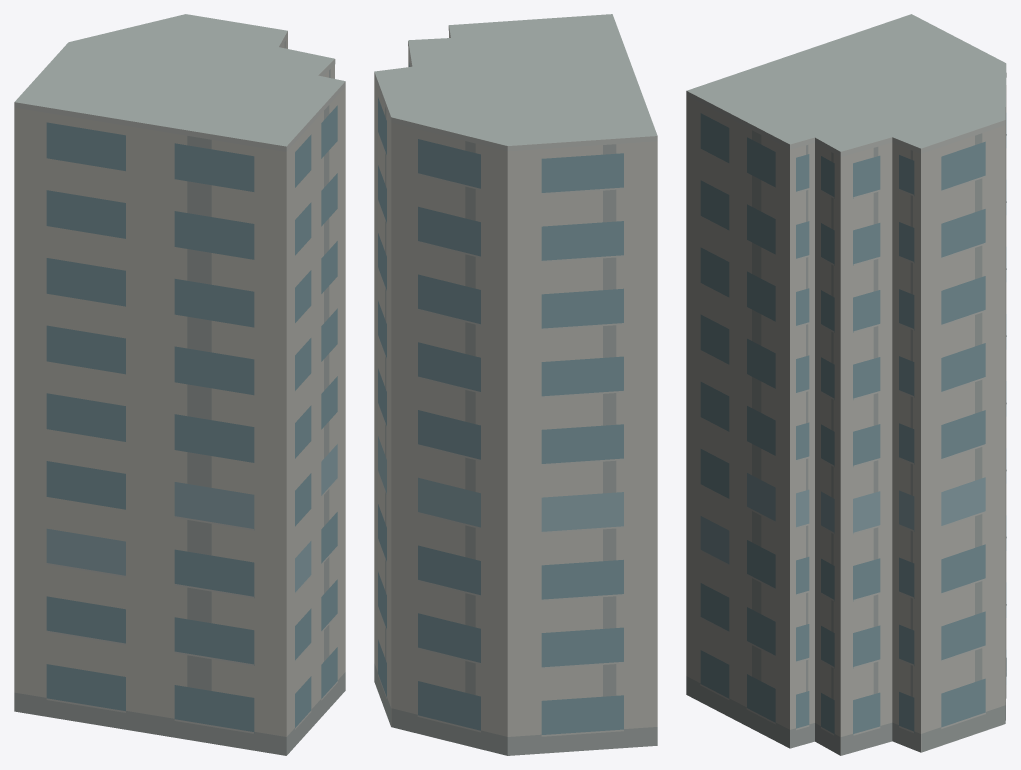
Rendered from survey-upis-32855390.glb.
The picture shows the model from 3 angles, left to right: view 1: azimuth 30°, elevation 25°; view 2: azimuth 150°, elevation 25°; view 3: azimuth 270°, elevation 25°; orthographic projection.
Parts seen in each view (by area): view 1: survey-upis-32855390.tmp; view 2: survey-upis-32855390.tmp; view 3: survey-upis-32855390.tmp.
Part boxes in pixels (box(x1,y1,x2,y2)): survey-upis-32855390.tmp: box(14, 14, 345, 755); survey-upis-32855390.tmp: box(374, 14, 657, 755); survey-upis-32855390.tmp: box(686, 14, 1006, 755).
Size of the model in its own units: 13.45 by 27.45 by 13.19.
